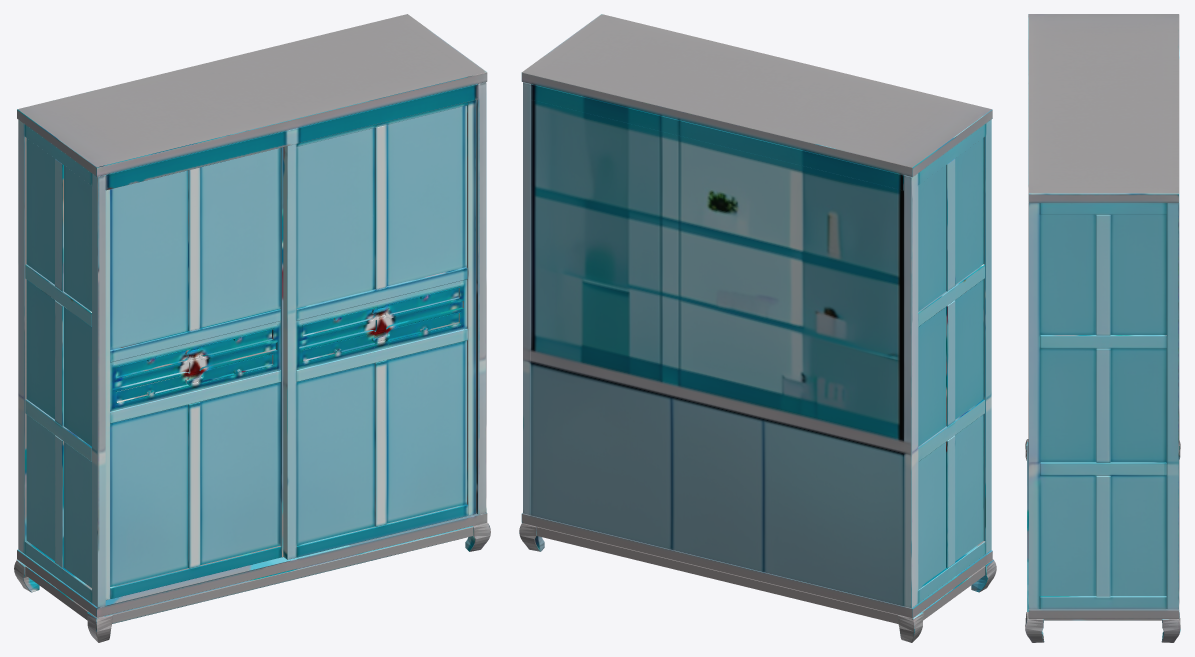
File: edited_mesh.glb
3 views of the same model, side by side, from view 1: azimuth 30°, elevation 25°; view 2: azimuth 150°, elevation 25°; view 3: azimuth 270°, elevation 25° (orthographic). The views are drawn at different scales.
Parts seen in each view (by area): view 1: normalized_model.obj; view 2: normalized_model.obj; view 3: normalized_model.obj.
Boxes of the visible parts, x1,y1,x2,y2 form: normalized_model.obj: (14, 14, 490, 642); normalized_model.obj: (519, 14, 996, 642); normalized_model.obj: (1025, 14, 1180, 642).
Size of the model in its own units: 1.21 by 1.4 by 0.4358.
1 material, 1 textured.
